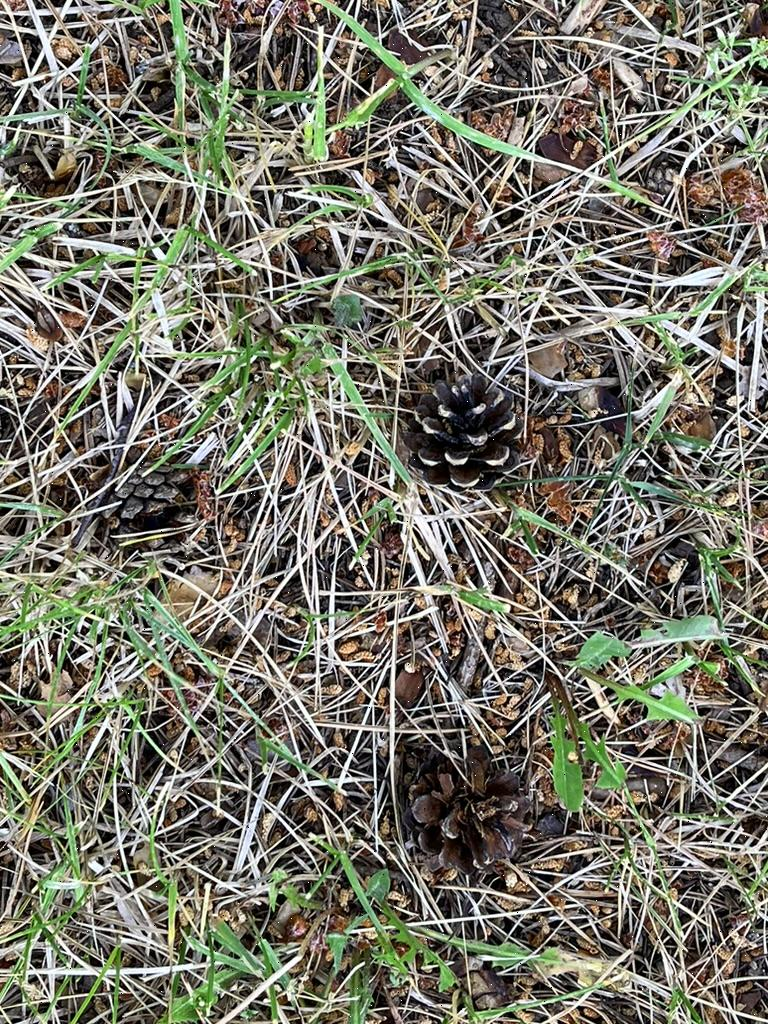pine: (386, 736, 541, 896), (404, 360, 544, 513), (94, 460, 204, 553)
